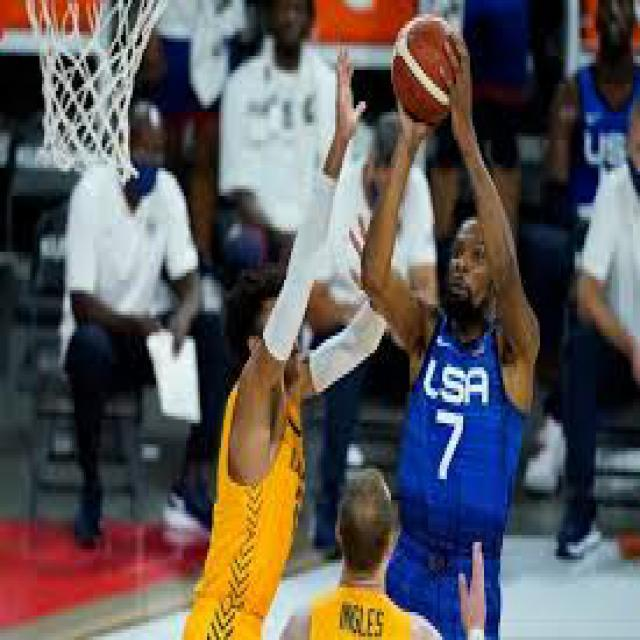basketball: (393, 14, 463, 130)
